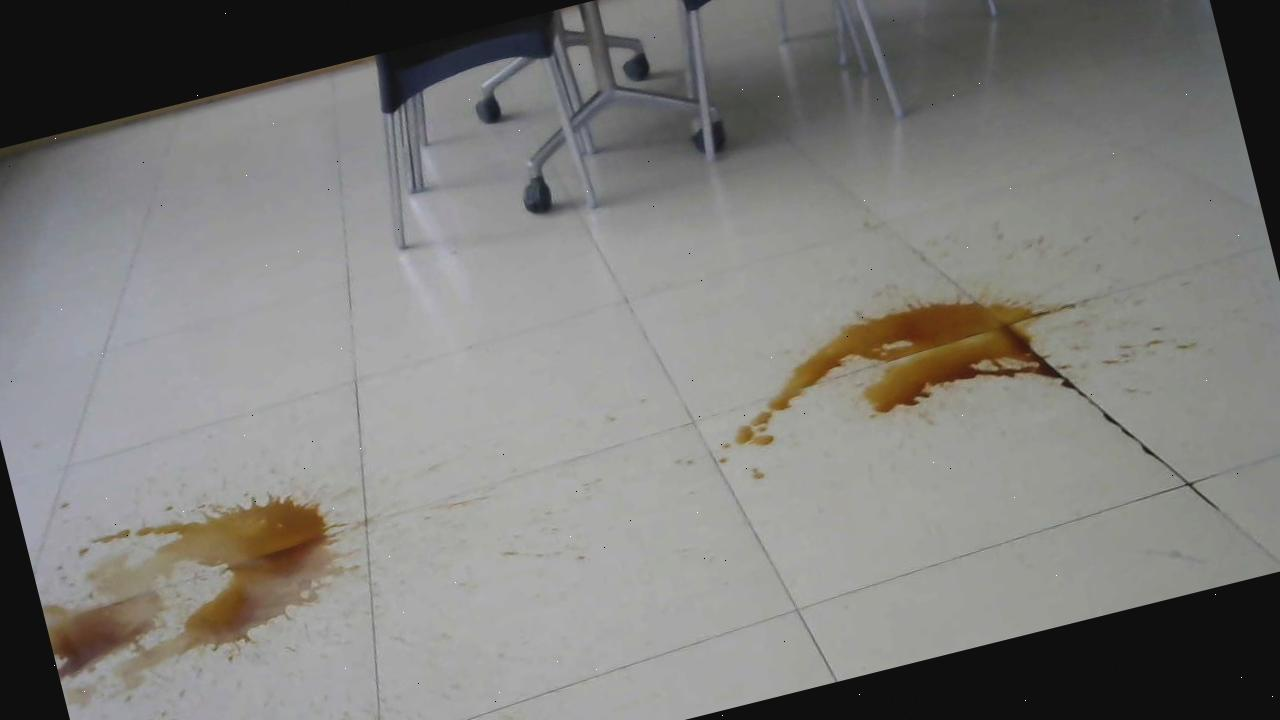dirty_floor: (668, 250, 1146, 506)
